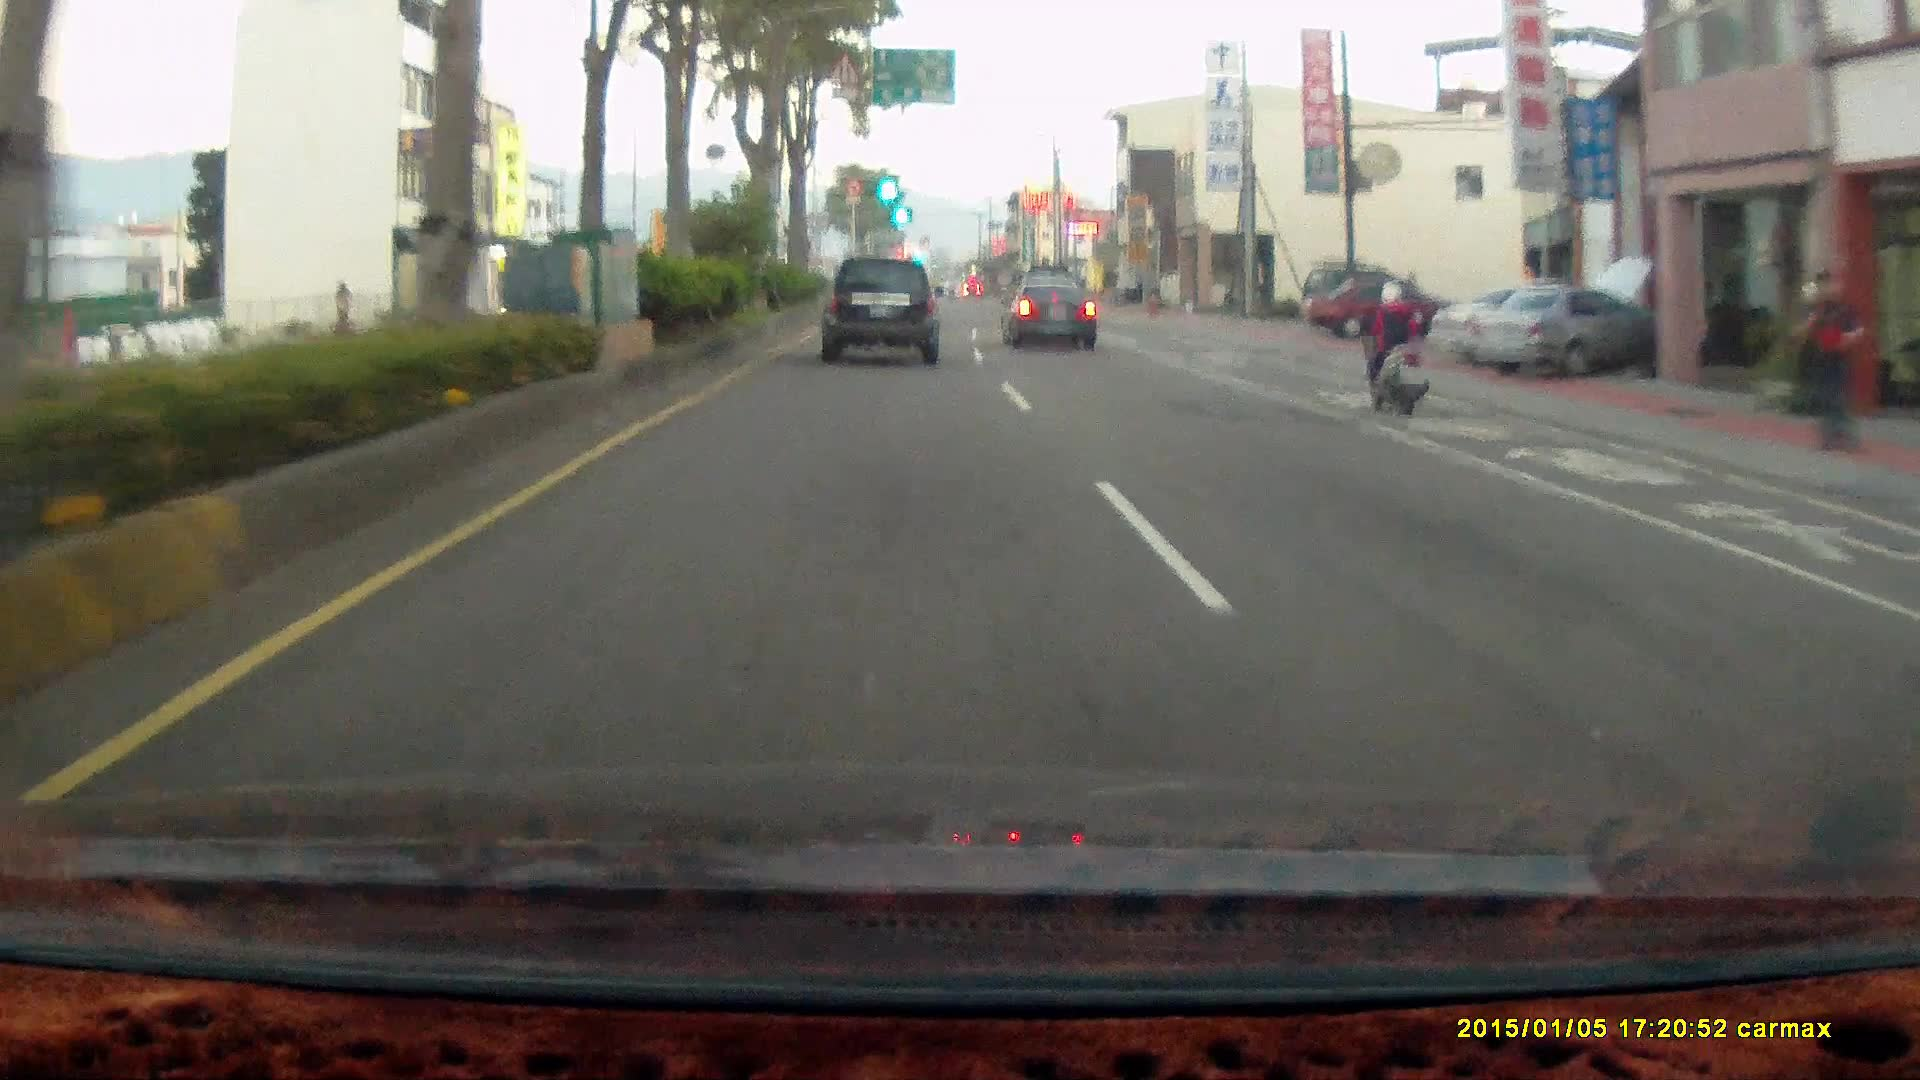pedestrian: (1787, 269, 1869, 458)
rider: (1349, 271, 1438, 428), (1357, 283, 1428, 419)
vehicle: (1467, 286, 1659, 379), (818, 258, 948, 372), (818, 258, 943, 366), (1303, 274, 1456, 343), (1306, 276, 1459, 340), (1000, 278, 1098, 351), (1005, 279, 1102, 351), (1105, 281, 1159, 304)
